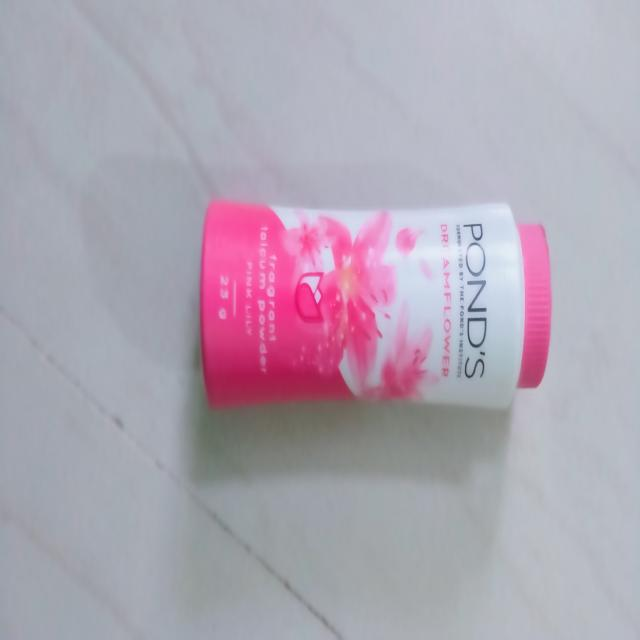powder: (195, 204, 552, 426)
